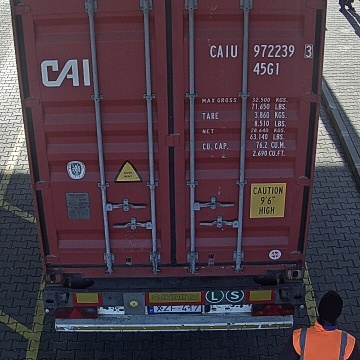serial_id: (209, 44, 312, 58)
